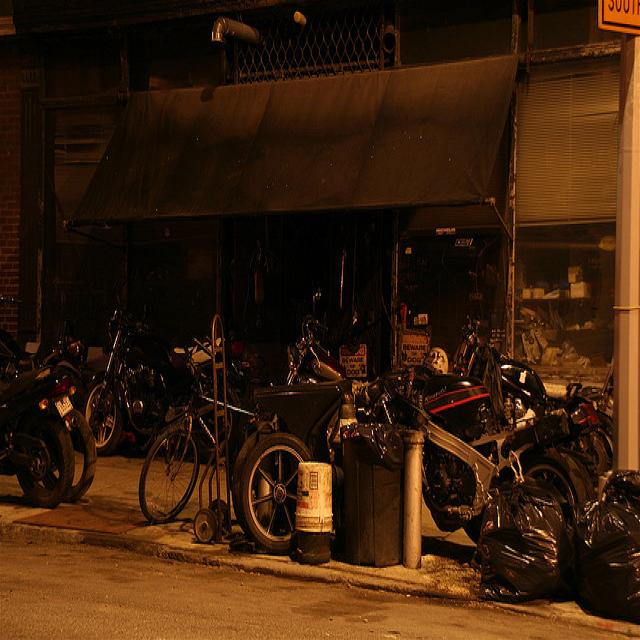Motorbike: (348, 354, 640, 606), (153, 345, 313, 549), (0, 313, 116, 526), (95, 321, 245, 473)
